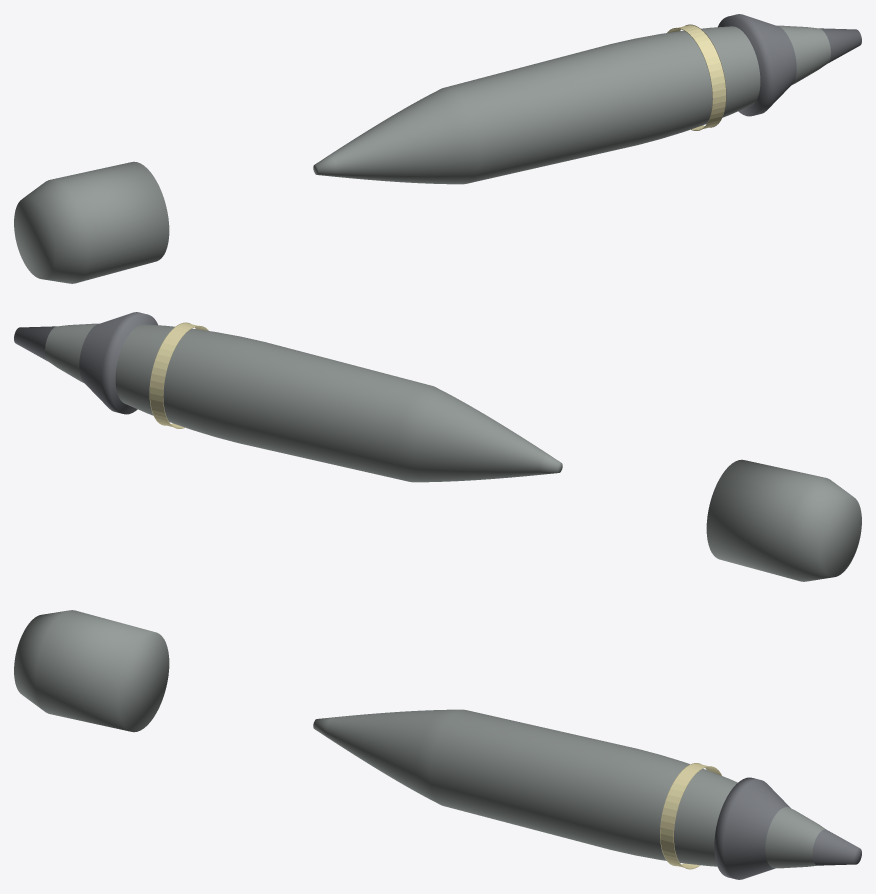
The model's file is RU_SLBM_R13_LOD0.fbx.
3 renders of one model, top to bottom at view 1: azimuth 30°, elevation 25°; view 2: azimuth 150°, elevation 25°; view 3: azimuth 330°, elevation 25°, orthographic.
Parts seen in each view (by area): view 1: WPN_RU_SLBM_R13_LOD0_Body, WPN_RU_SLBM_R13_LOD0_Tail, WPN_RU_SLBM_R13_LOD0_Nose, WPN_RU_SLBM_R13_LOD0_Marking; view 2: WPN_RU_SLBM_R13_LOD0_Body, WPN_RU_SLBM_R13_LOD0_Tail, WPN_RU_SLBM_R13_LOD0_Nose, WPN_RU_SLBM_R13_LOD0_Marking; view 3: WPN_RU_SLBM_R13_LOD0_Body, WPN_RU_SLBM_R13_LOD0_Tail, WPN_RU_SLBM_R13_LOD0_Nose, WPN_RU_SLBM_R13_LOD0_Marking.
Boxes of the visible parts, x1,y1,x2,y2 form: WPN_RU_SLBM_R13_LOD0_Body: (313, 25, 830, 184); WPN_RU_SLBM_R13_LOD0_Tail: (14, 161, 169, 283); WPN_RU_SLBM_R13_LOD0_Nose: (718, 14, 861, 116); WPN_RU_SLBM_R13_LOD0_Marking: (667, 24, 726, 130); WPN_RU_SLBM_R13_LOD0_Body: (45, 323, 562, 482); WPN_RU_SLBM_R13_LOD0_Tail: (706, 459, 861, 581); WPN_RU_SLBM_R13_LOD0_Nose: (14, 312, 157, 414); WPN_RU_SLBM_R13_LOD0_Marking: (149, 322, 208, 428); WPN_RU_SLBM_R13_LOD0_Body: (313, 709, 826, 868); WPN_RU_SLBM_R13_LOD0_Tail: (14, 610, 169, 732); WPN_RU_SLBM_R13_LOD0_Nose: (714, 777, 861, 879); WPN_RU_SLBM_R13_LOD0_Marking: (660, 763, 721, 869).
Bounding box in the file's own units: 11.8 × 1.33 × 1.33.
